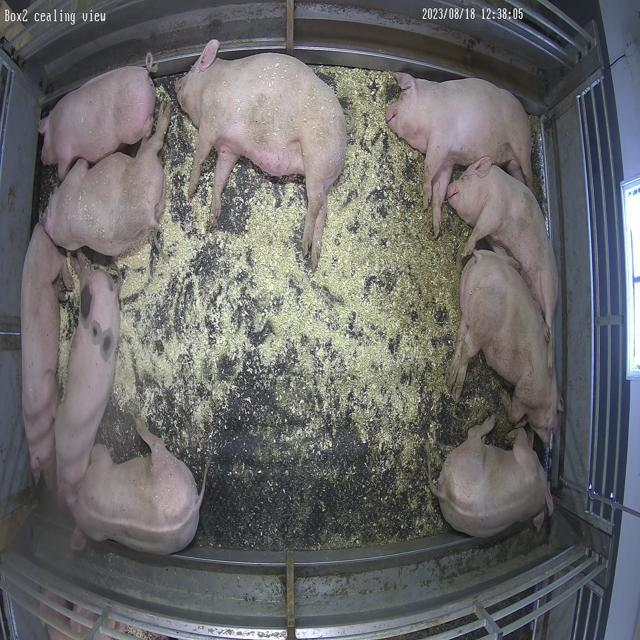Dirt: (362, 357, 515, 541), (384, 132, 470, 354)
Pig: (176, 40, 347, 270), (386, 72, 533, 236), (449, 250, 558, 442), (43, 105, 169, 256), (448, 157, 559, 328), (71, 420, 204, 556), (54, 262, 119, 500), (437, 416, 553, 538), (39, 66, 155, 178), (20, 224, 64, 480)
